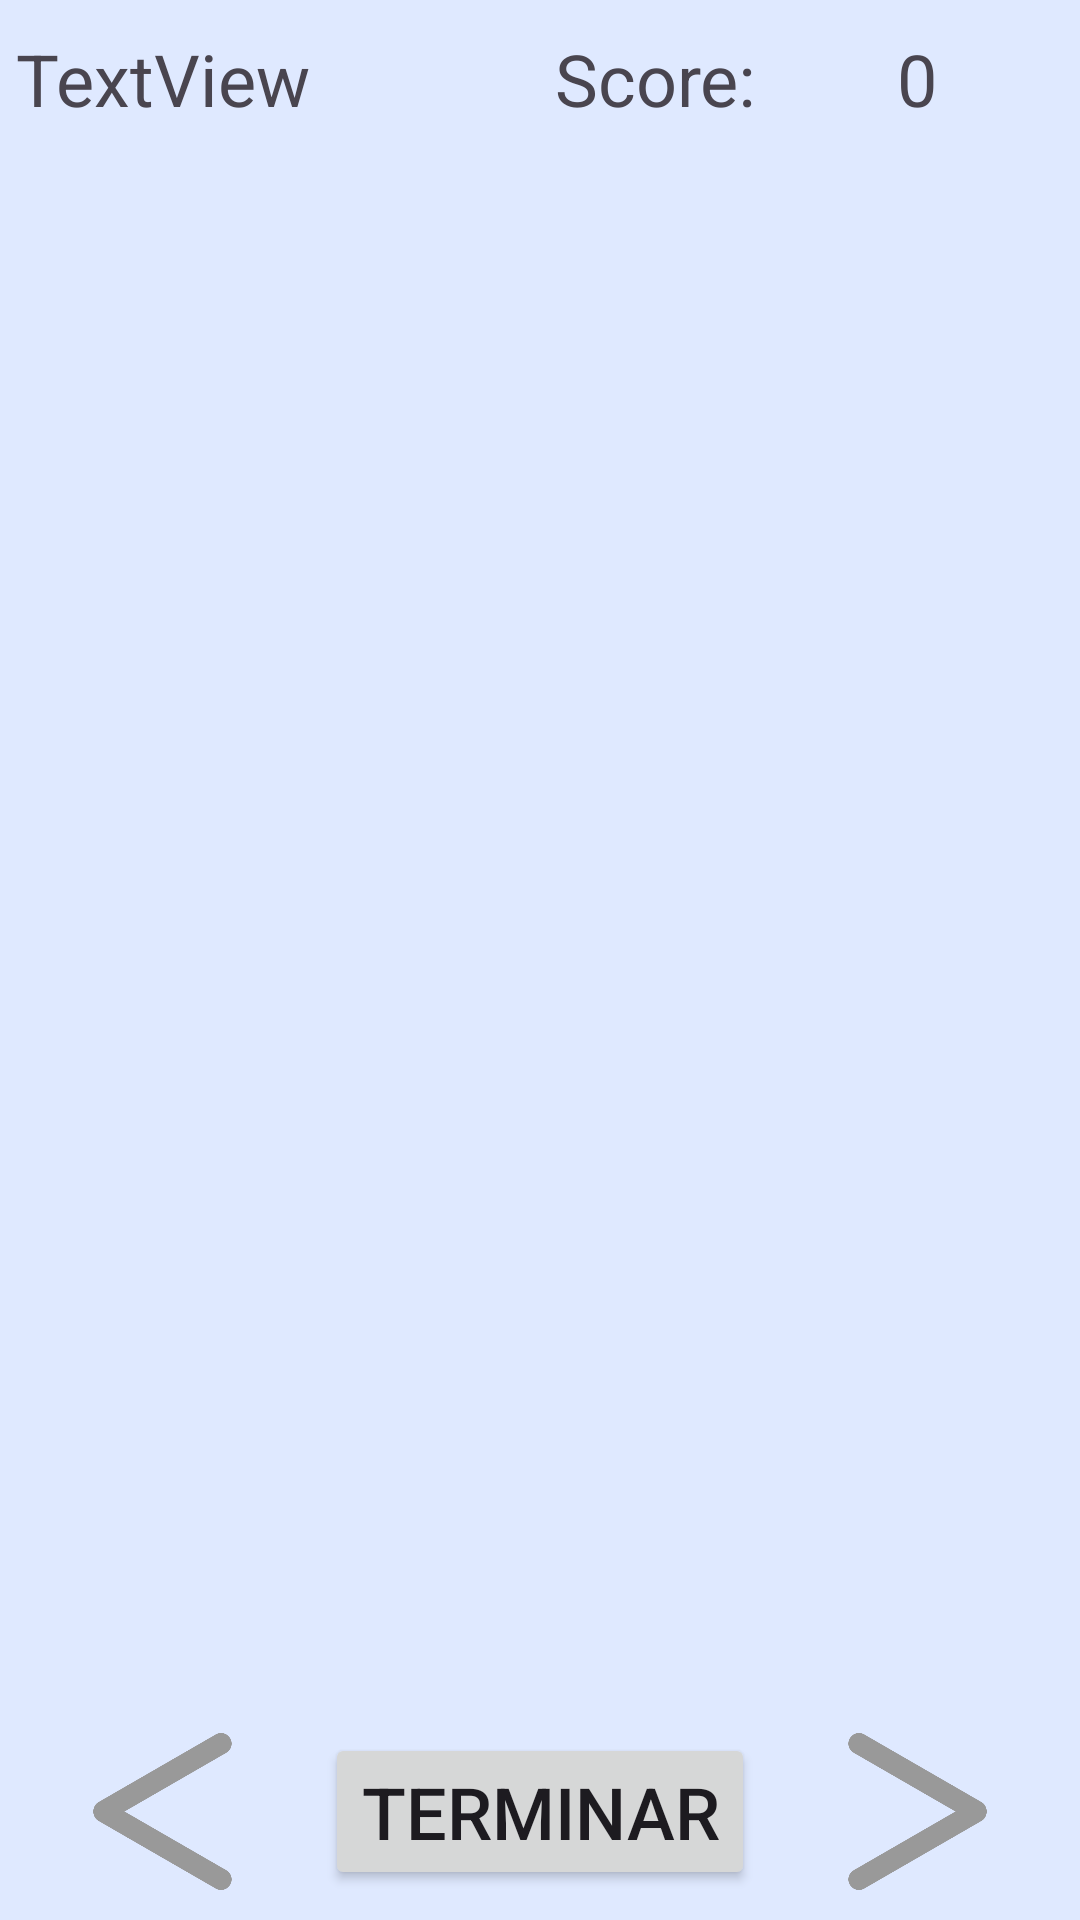

Named icons in this screenshot (1080x1920) and their centers, [x,y]:
lsygnal: [162,1811]
rsignal: [917,1811]
